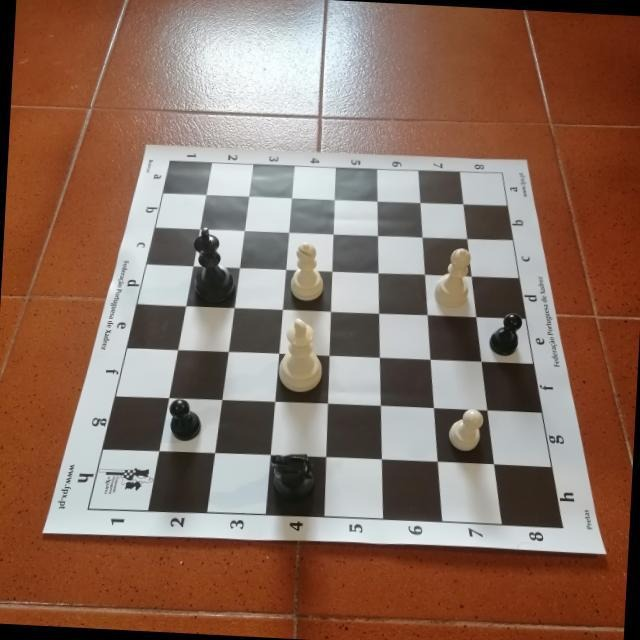black-king: (189, 226, 239, 306)
black-knight: (268, 450, 319, 502)
black-pawn: (488, 310, 524, 358), (166, 397, 203, 443)
white-bishop: (433, 247, 473, 309), (288, 240, 327, 303)
white-king: (278, 315, 326, 393)
white-pawn: (447, 406, 485, 453)
